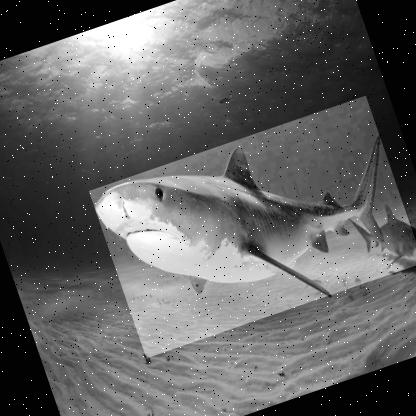tiger-shark: (86, 94, 415, 360)
